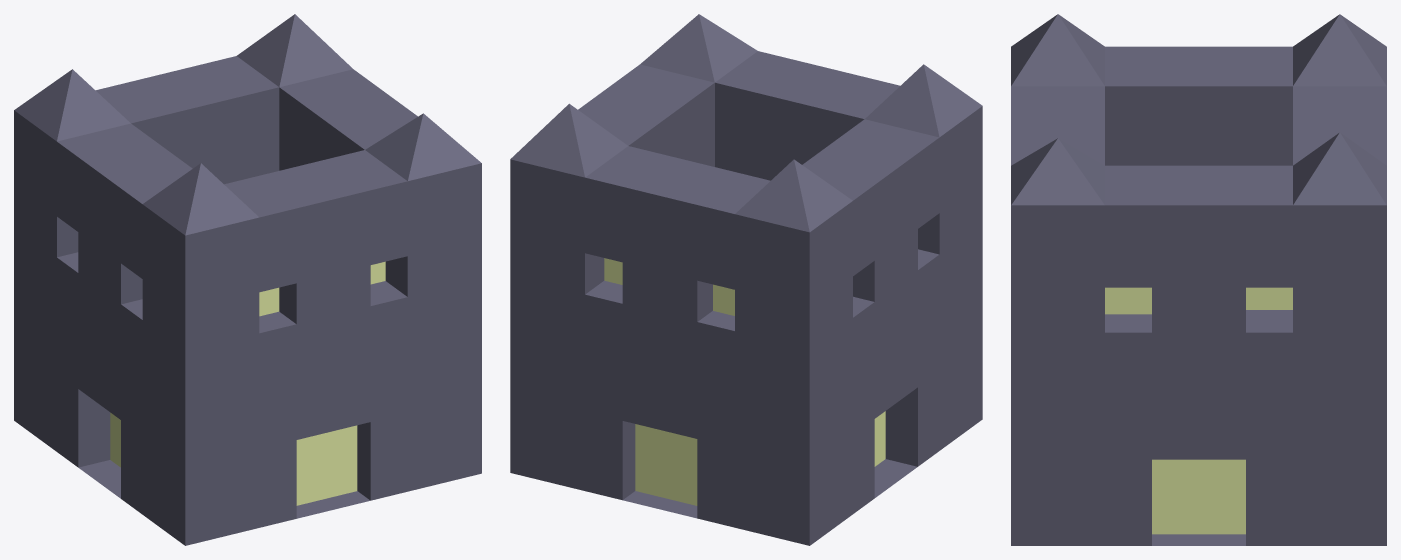
Rendered from Market.dae.
3 renders of one model, left to right at view 1: azimuth 30°, elevation 25°; view 2: azimuth 150°, elevation 25°; view 3: azimuth 270°, elevation 25°, orthographic. The views are drawn at different scales.
Visible parts, largest first — view 1: Cube; view 2: Cube; view 3: Cube.
Boxes of the visible parts, x1,y1,x2,y2 form: Cube: [14, 14, 481, 545]; Cube: [510, 14, 982, 545]; Cube: [1011, 14, 1386, 545].
Bounding box in the file's own units: 2 × 2 × 2.31.
